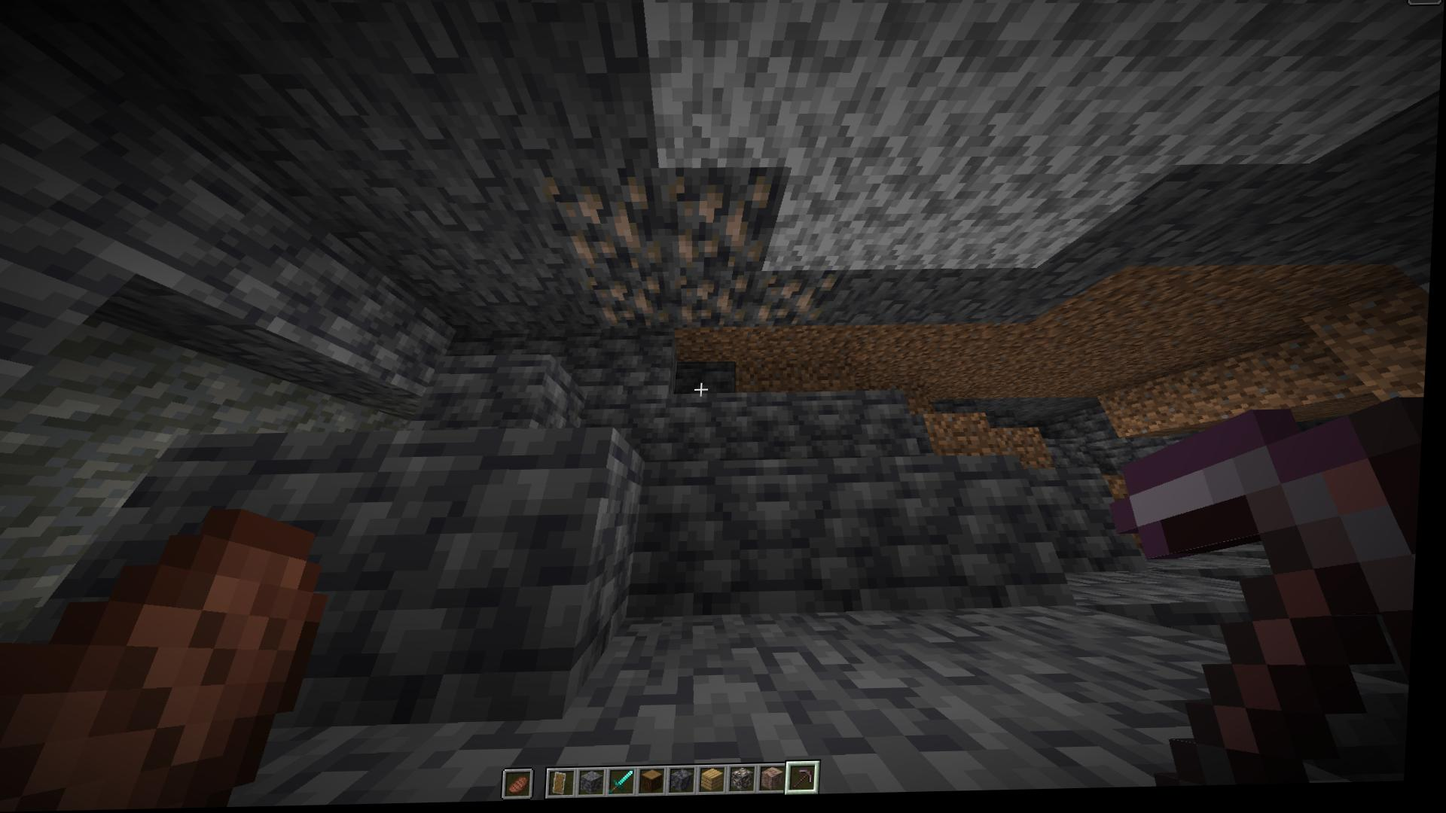iron ore: (540, 168, 673, 274), (664, 165, 780, 274), (587, 268, 678, 343), (673, 261, 757, 341), (756, 268, 838, 336)
